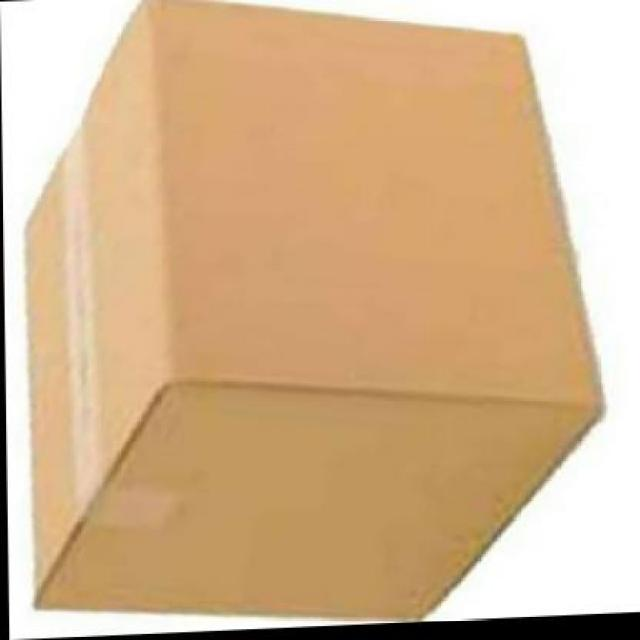box: (22, 0, 604, 637)
